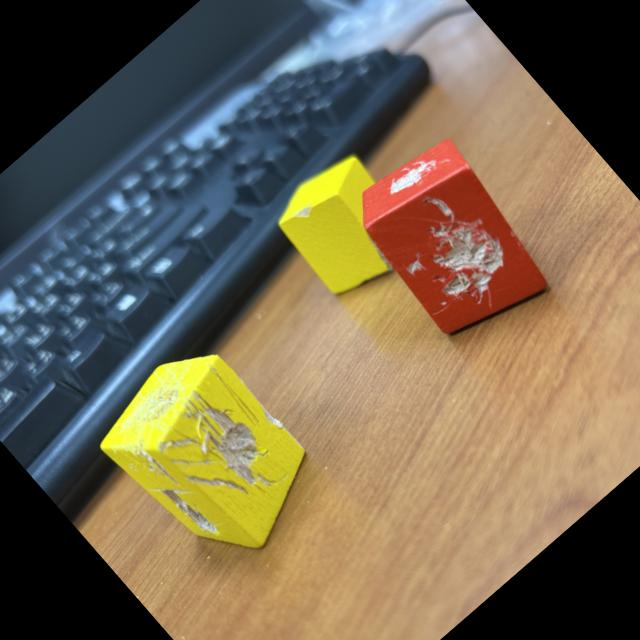broken: (85, 327, 336, 585), (338, 124, 568, 360), (264, 144, 430, 312)
